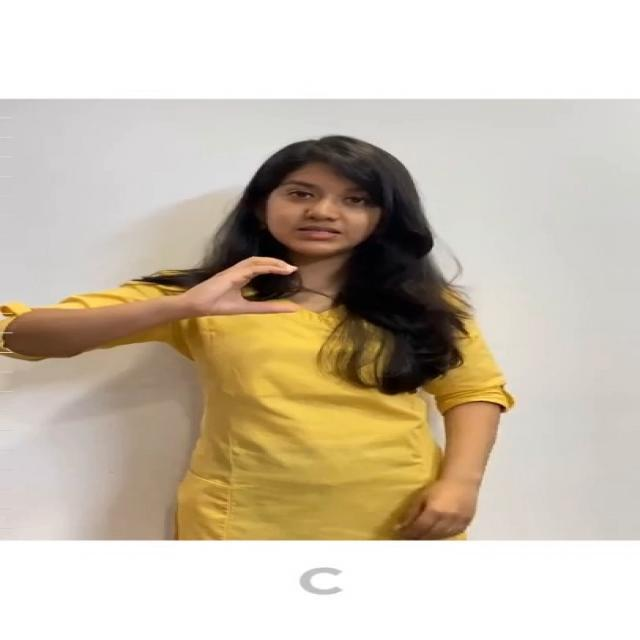c: (169, 249, 310, 326)
